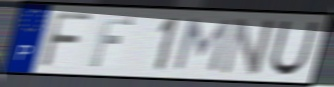1: (152, 15, 181, 72)
F: (38, 10, 96, 69), (87, 14, 137, 69)
M: (170, 16, 234, 74)
N: (217, 16, 278, 77)
U: (268, 19, 321, 78)
